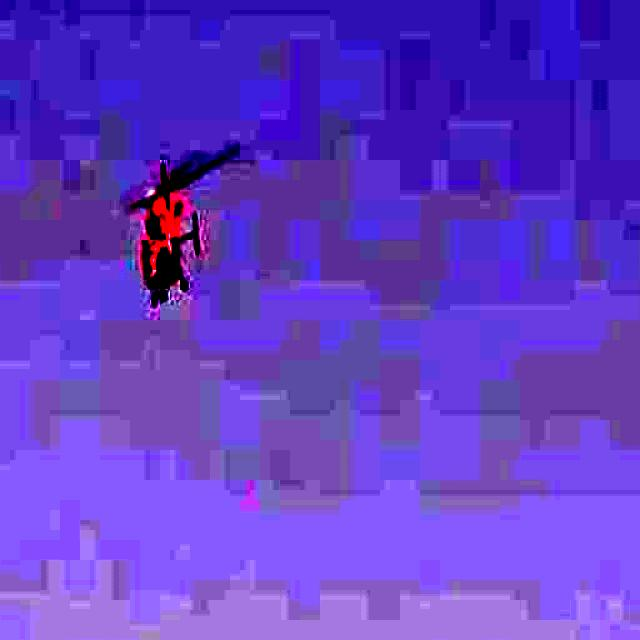drone: (58, 126, 249, 334)
